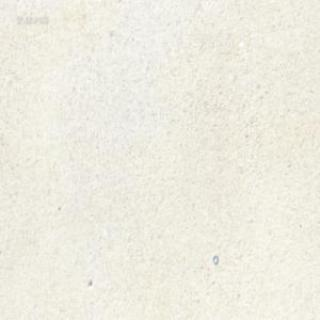Washertrack_idkeyframe: (212, 254, 218, 264)
